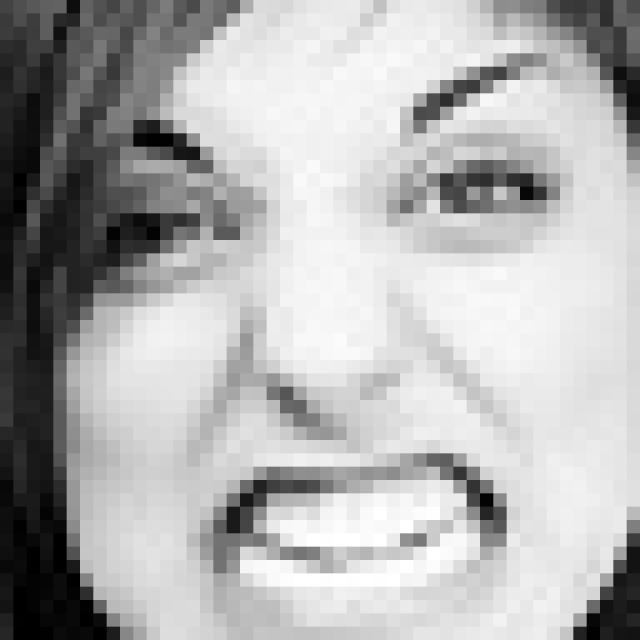angry: (88, 52, 577, 624)
